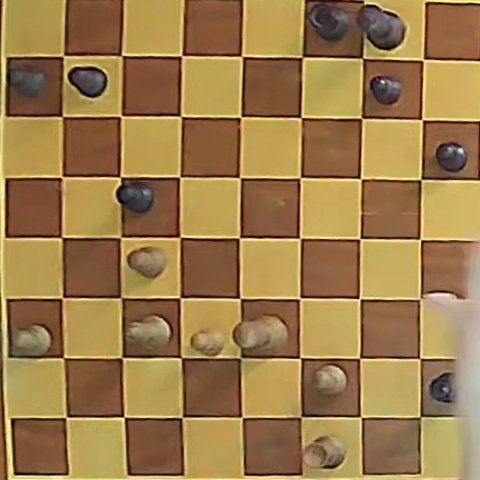black-king: (357, 5, 405, 50)
black-pawn: (68, 67, 107, 98), (117, 182, 154, 213), (9, 67, 47, 97), (435, 142, 467, 172), (370, 76, 403, 105)
black-rook: (308, 4, 349, 42), (429, 372, 456, 403)
white-bishop: (127, 315, 171, 350)
white-king: (234, 315, 288, 354)
white-pawn: (11, 325, 52, 357), (128, 246, 167, 278), (312, 364, 347, 394), (190, 328, 225, 356)
white-rook: (304, 436, 346, 469)
